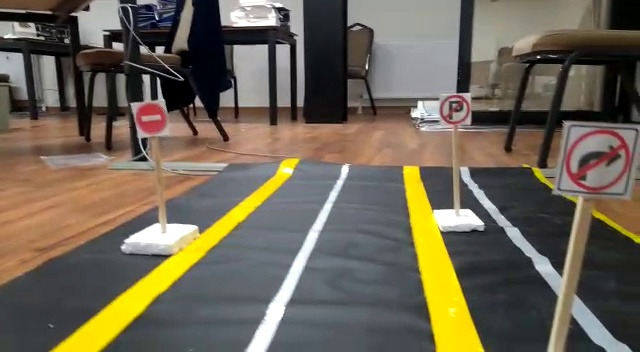girisi_olmayan_yol: (134, 99, 166, 135)
park_yapilmaz: (439, 93, 473, 124)
saga_donulmez: (562, 122, 630, 196)
